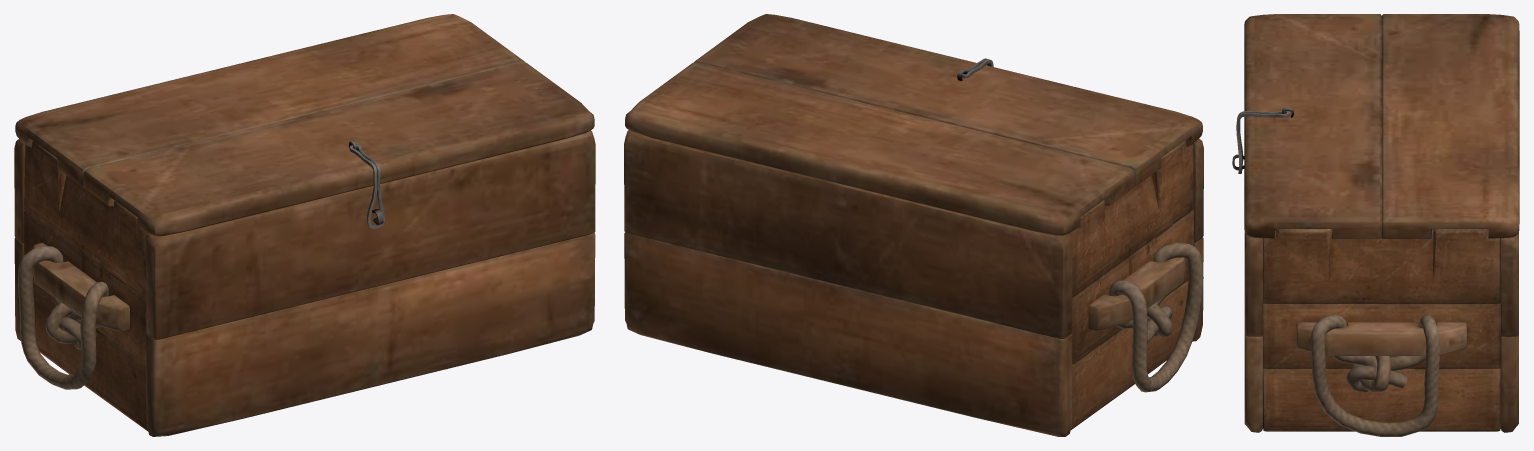
File: wooden_crate_01.glb
3 views of the same model, side by side, from view 1: azimuth 30°, elevation 25°; view 2: azimuth 150°, elevation 25°; view 3: azimuth 270°, elevation 25° (orthographic). The views are drawn at different scales.
Parts seen in each view (by area): view 1: wooden_crate_01_lod0; view 2: wooden_crate_01_lod0; view 3: wooden_crate_01_lod0.
Part boxes in pixels (x1,y1,x2,y2): wooden_crate_01_lod0: [14, 14, 595, 436]; wooden_crate_01_lod0: [624, 14, 1203, 436]; wooden_crate_01_lod0: [1232, 14, 1519, 436].
Size of what is drawn, in the model's own units: 0.8253 by 0.3496 by 0.4089.
Materials: 1 (1 with a texture image).
